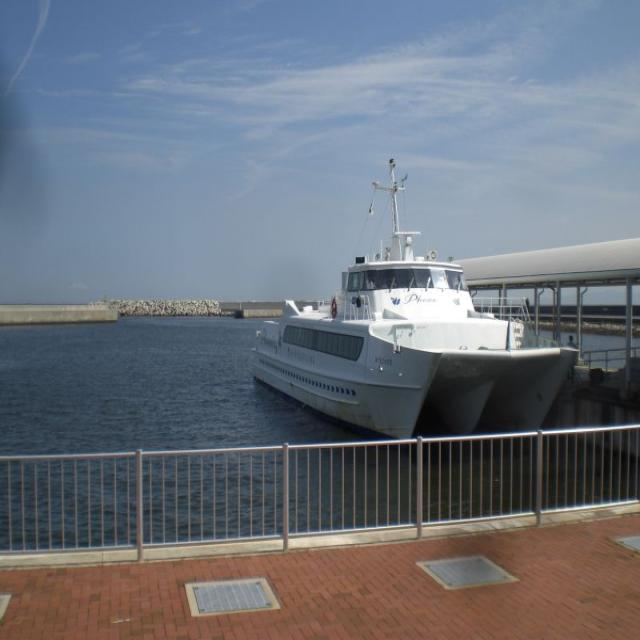houseboat: (249, 178, 575, 443)
